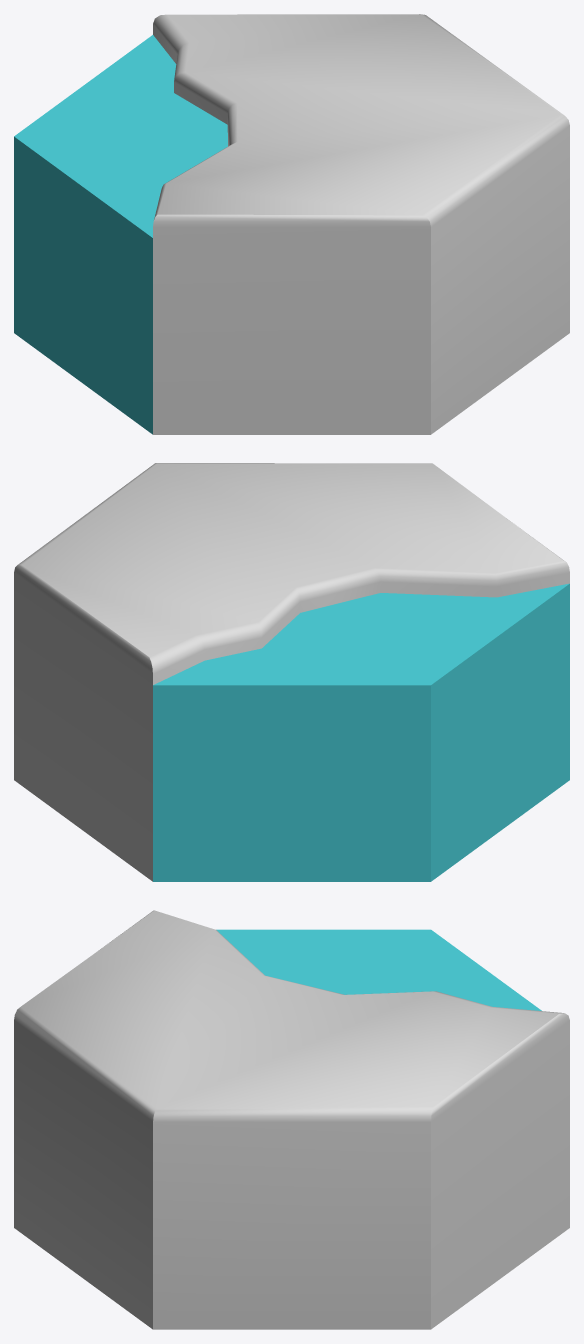
Rendered from hex_snow_waterD.gltf.glb.
The picture shows the model from 3 angles, top to bottom: view 1: azimuth 30°, elevation 25°; view 2: azimuth 150°, elevation 25°; view 3: azimuth 270°, elevation 25°; orthographic projection.
Visible parts, largest first — view 1: hex_snow_waterD; view 2: hex_snow_waterD; view 3: hex_snow_waterD.
Boxes of the visible parts, x1,y1,x2,y2 form: hex_snow_waterD: [14, 14, 569, 434]; hex_snow_waterD: [14, 463, 569, 881]; hex_snow_waterD: [14, 910, 569, 1329].
Size of the model in its own units: 2 by 1 by 2.31.
